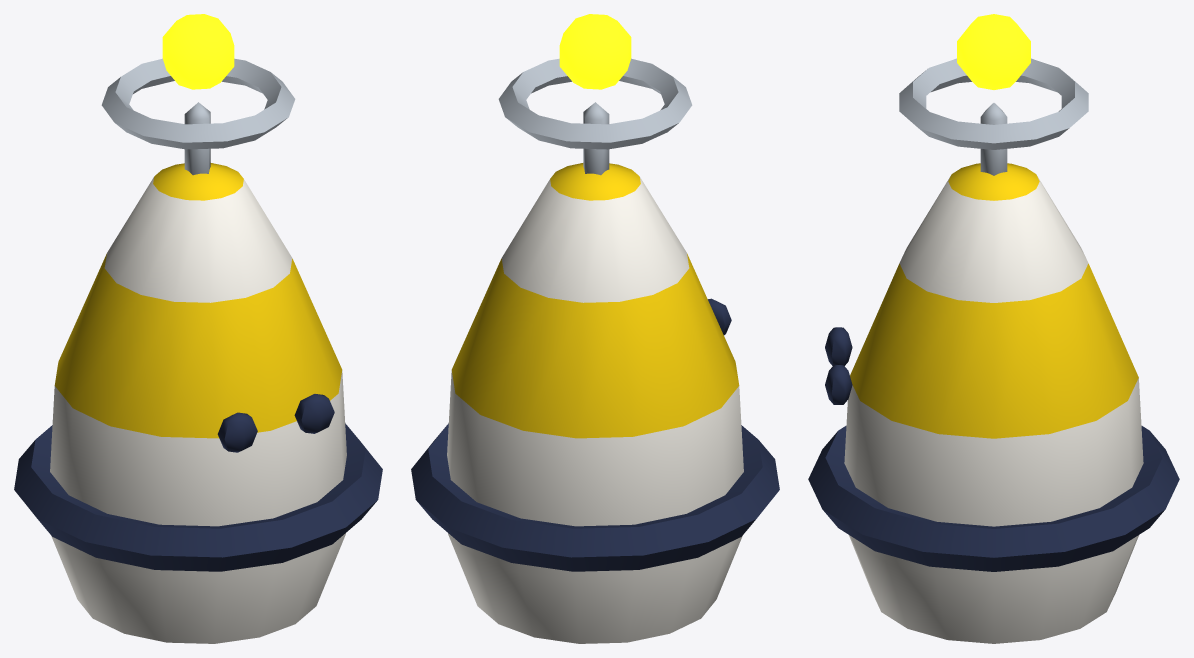
File: Tutorial_LessonBuoy_Marker2.fbx
The picture shows the model from 3 angles, left to right: view 1: azimuth 30°, elevation 25°; view 2: azimuth 150°, elevation 25°; view 3: azimuth 270°, elevation 25°; orthographic projection.
Visible parts, largest first — view 1: Tutorial_LessonBuoy_Marker2; view 2: Tutorial_LessonBuoy_Marker2; view 3: Tutorial_LessonBuoy_Marker2.
Part boxes in pixels (left/top/right/bottom): Tutorial_LessonBuoy_Marker2: left=14, top=14, right=382, bottom=643; Tutorial_LessonBuoy_Marker2: left=411, top=14, right=779, bottom=643; Tutorial_LessonBuoy_Marker2: left=808, top=14, right=1179, bottom=643.
Bounding box in the file's own units: 1.34 × 2.29 × 1.34.
